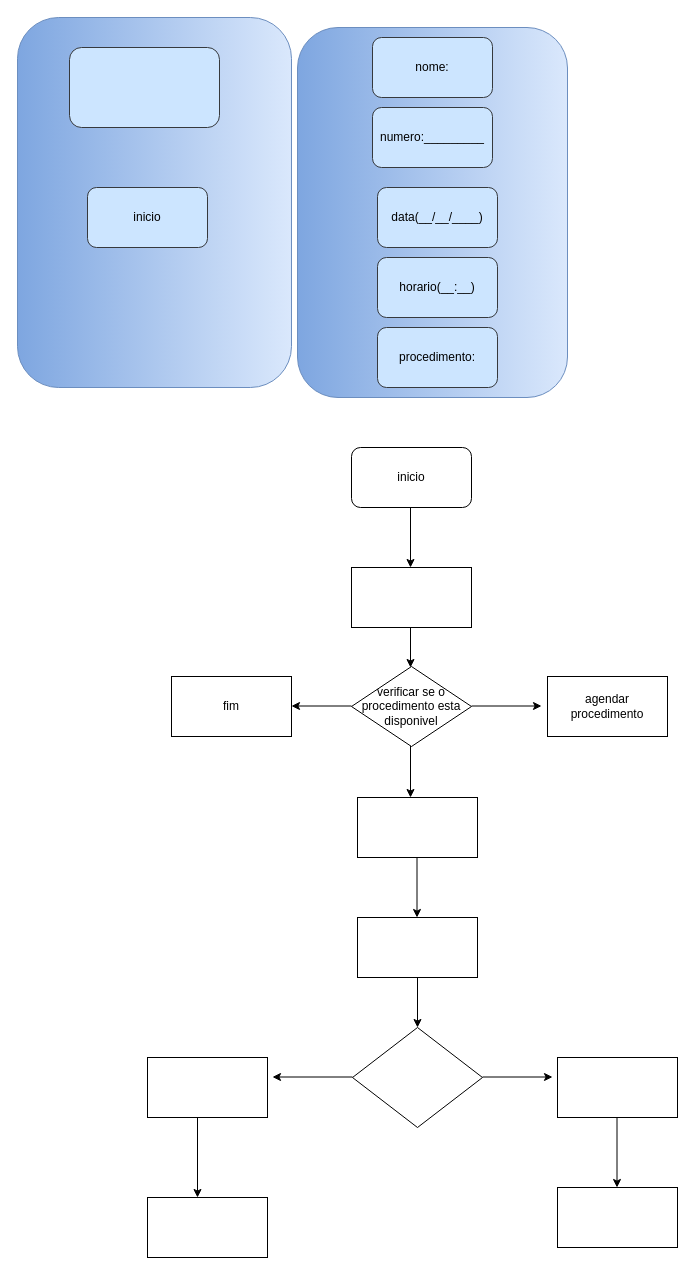
Some shapes in this 695 by 1275 pixel diagram are drawn without their labels. Each missing label, with the centre of its shape:
BEM VINDO(A) AO SALAO BEAUTY aqui vamos agendar seu procedimento: point (144, 87)
cadastrar cliente: point (411, 597)
escolher procedimento: point (417, 827)
